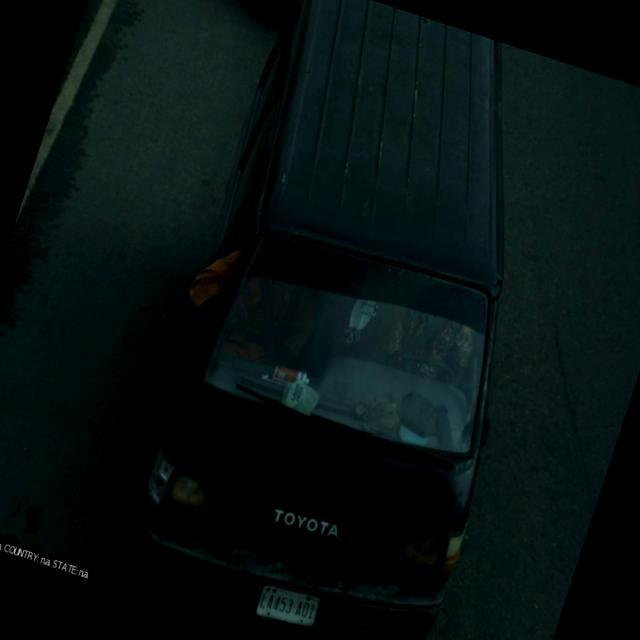windshield: (184, 217, 498, 480)
